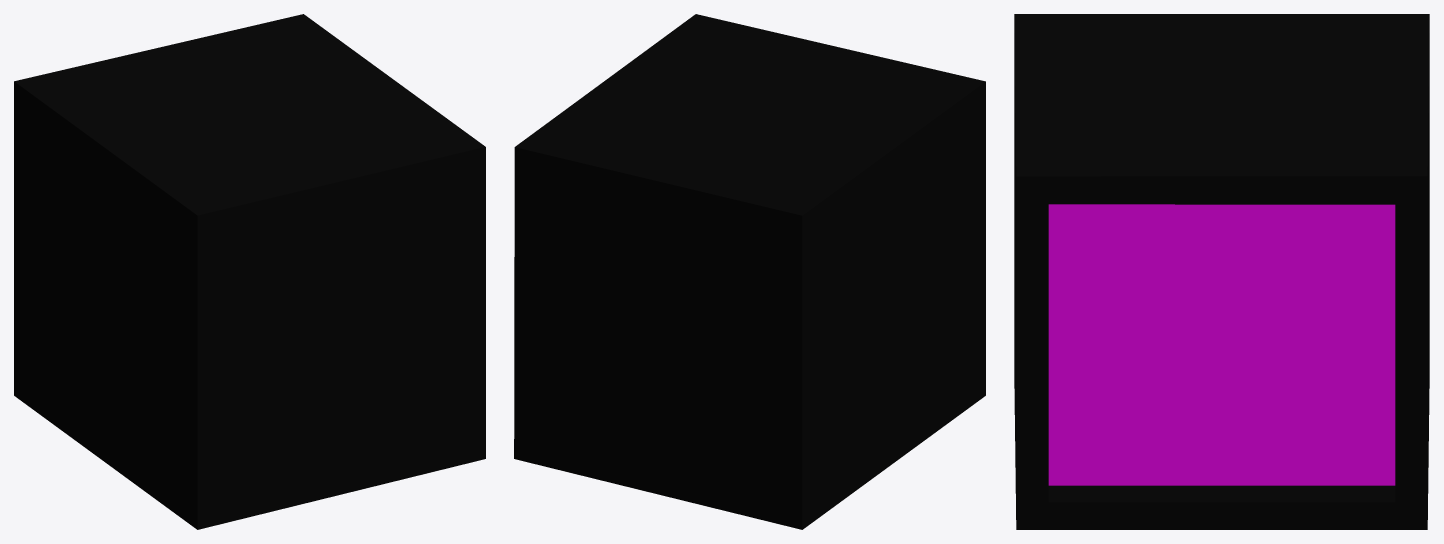
File: Signal.glb
The picture shows the model from 3 angles, left to right: view 1: azimuth 30°, elevation 25°; view 2: azimuth 150°, elevation 25°; view 3: azimuth 270°, elevation 25°; orthographic projection. The views are drawn at different scales.
Visible parts, largest first — view 1: signal; view 2: signal; view 3: signal.
Boxes of the visible parts, x1=… form: signal: x1=14, y1=14, x2=485, y2=529; signal: x1=514, y1=14, x2=985, y2=529; signal: x1=1014, y1=14, x2=1429, y2=529.
Bounding box in the file's own units: 0.0901 × 0.0934 × 0.0988.
